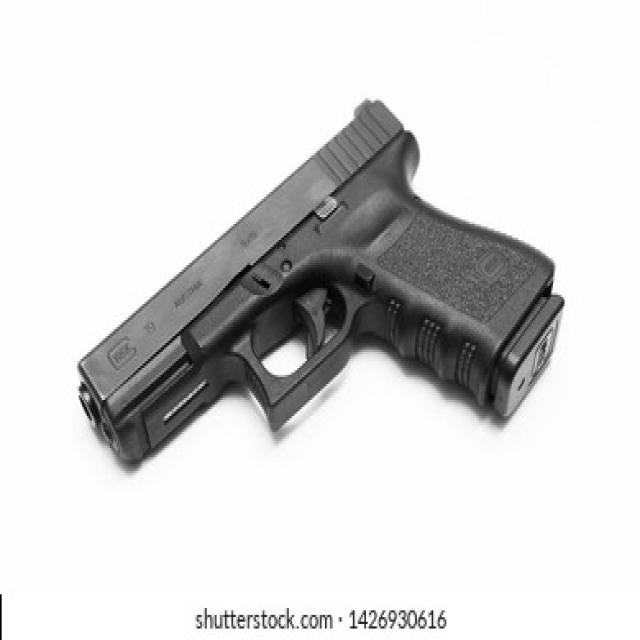Hand-Gun: (66, 99, 574, 518)
